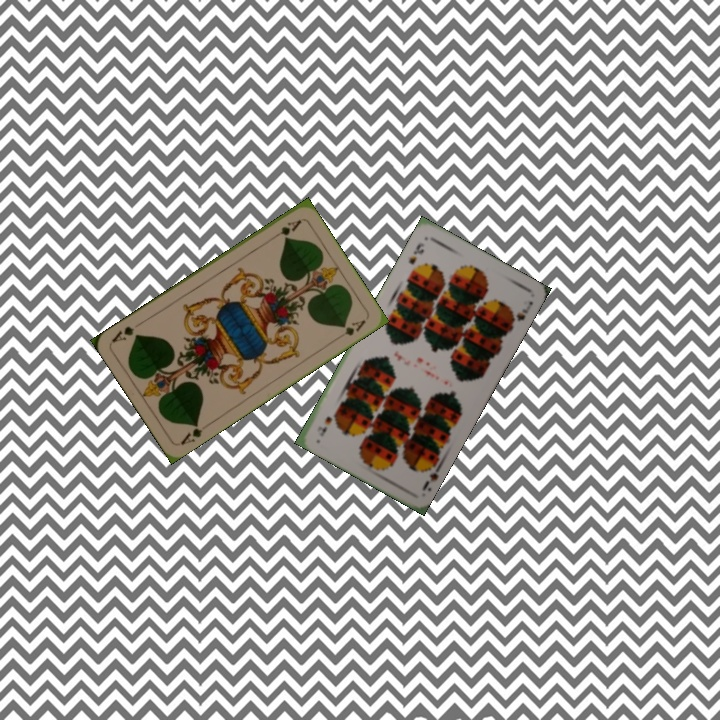GA: (267, 215, 304, 243), (176, 419, 205, 447)
S9: (418, 458, 445, 494), (405, 239, 427, 267)
